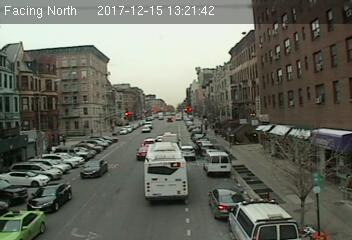bus: (144, 143, 189, 202)
car: (1, 207, 48, 239), (27, 183, 71, 211), (208, 188, 246, 218), (78, 158, 108, 178), (180, 143, 195, 159), (137, 146, 148, 159)
police: (226, 199, 300, 240)
truck: (204, 151, 232, 176), (162, 132, 179, 144)
